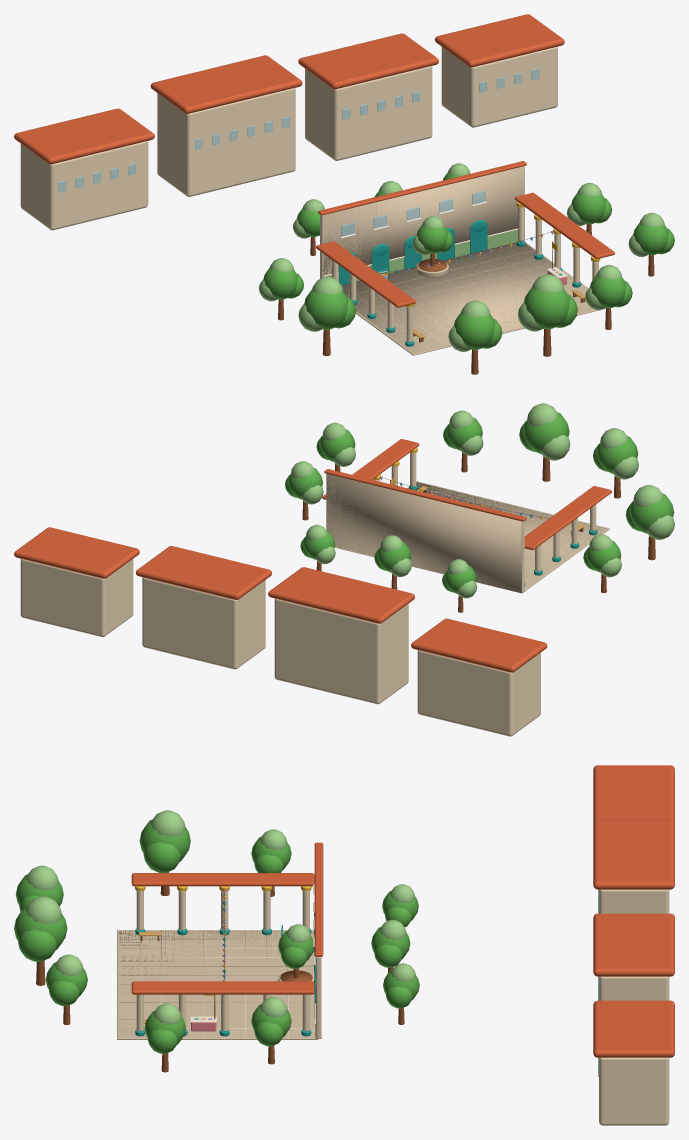
File: kulliyyah_courtyard.glb
3 renders of one model, top to bottom at view 1: azimuth 30°, elevation 25°; view 2: azimuth 150°, elevation 25°; view 3: azimuth 270°, elevation 25°, orthographic. The views are drawn at different scales.
Visible parts, largest first — view 1: Block1.006, Floor-colonly.003, WallBack-colonly.003, Block2.006, Block0.006, Block3.005, Block1Roof.006, Block0Roof.006, Block2Roof.006, Block3Roof.005, SideRoof-1, SideRoof1 (+12 smaller); view 2: WallBack-colonly.003, Block1.006, Block2.006, Block0.006, Block3.005, Block1Roof.006, Block2Roof.006, Block0Roof.006, Block3Roof.005, Floor.003, Floor-colonly.003, WallBack.002 (+14 smaller); view 3: Floor.003, Block1Roof.006, Block2Roof.006, Block3.005, Block3Roof.005, Block0Roof.006, SideRoof1, SideRoof-1, Block1.006, Block2.006, Floor-colonly.003, WallBackCap.001 (+14 smaller).
Part boxes in pixels (x1,y1,x2,y2): Block1.006: [157, 88, 295, 196]; Floor-colonly.003: [341, 243, 570, 353]; WallBack-colonly.003: [323, 166, 524, 274]; Block2.006: [305, 66, 432, 160]; Block0.006: [20, 141, 148, 230]; Block3.005: [441, 46, 557, 127]; Block1Roof.006: [150, 55, 302, 113]; Block0Roof.006: [14, 108, 154, 164]; Block2Roof.006: [298, 33, 438, 89]; Block3Roof.005: [435, 14, 564, 67]; SideRoof-1: [316, 241, 415, 307]; SideRoof1: [514, 192, 614, 258]; WallBack-colonly.003: [327, 474, 521, 593]; Block1.006: [274, 598, 408, 704]; Block2.006: [142, 577, 265, 669]; Block0.006: [417, 650, 540, 736]; Block3.005: [20, 559, 133, 636]; Block1Roof.006: [268, 567, 414, 623]; Block2Roof.006: [135, 546, 272, 599]; Block0Roof.006: [411, 618, 547, 672]; Block3Roof.005: [14, 527, 139, 578]; Floor.003: [407, 481, 609, 592]; Floor-colonly.003: [408, 482, 607, 555]; WallBack.002: [326, 474, 524, 592]; Floor.003: [117, 930, 318, 1039]; Block1Roof.006: [593, 820, 674, 889]; Block2Roof.006: [593, 913, 674, 976]; Block3.005: [599, 1057, 669, 1125]; Block3Roof.005: [593, 1000, 674, 1057]; Block0Roof.006: [593, 765, 674, 823]; SideRoof1: [131, 981, 314, 994]; SideRoof-1: [131, 873, 314, 886]; Block1.006: [599, 889, 669, 913]; Block2.006: [599, 976, 669, 1000]; Floor-colonly.003: [119, 930, 314, 1037]; WallBackCap.001: [314, 842, 323, 956].
Size of what is drawn, in the model's own units: 47.3 by 8.22 by 46.97.
